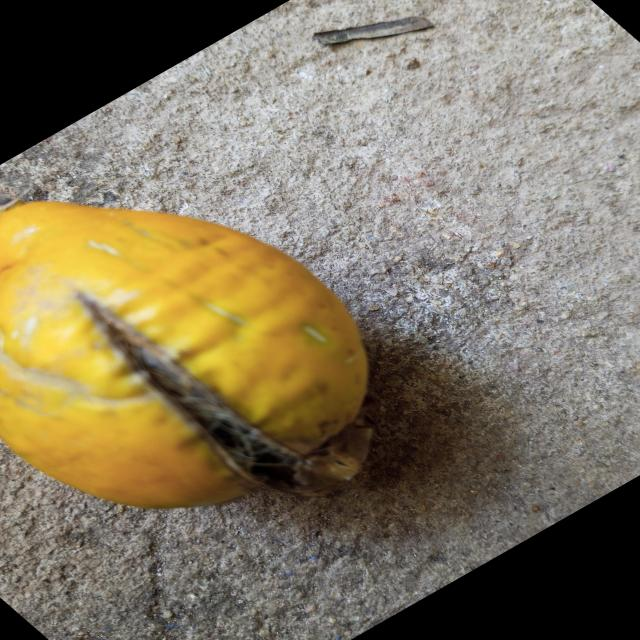damaged: (0, 201, 373, 513)
